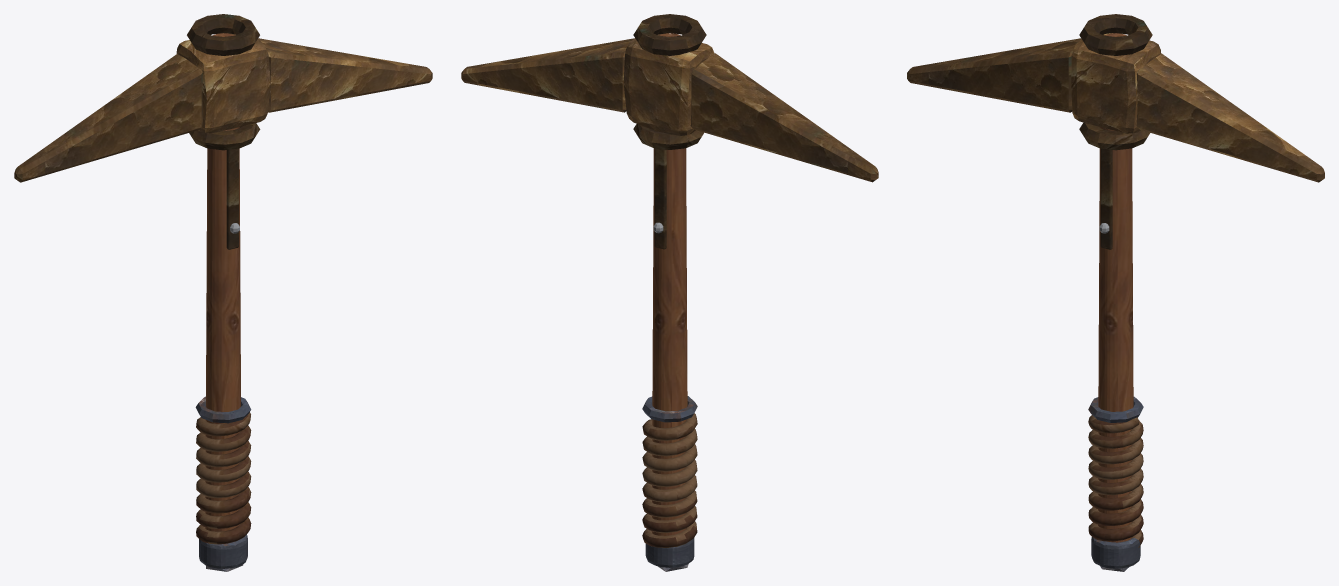
Rendered from pickaxe_bronze.glb.
3 views of the same model, side by side, from view 1: azimuth 30°, elevation 25°; view 2: azimuth 150°, elevation 25°; view 3: azimuth 330°, elevation 25° (orthographic).
Visible parts, largest first — view 1: model; view 2: model; view 3: model.
Part boxes in pixels (x1,y1,x2,y2): model: (14,14,432,571); model: (461,14,878,571); model: (907,14,1324,571).
Size of the model in its own units: 0.6 by 0.746 by 0.092.
Materials: 8 (7 with a texture image).
